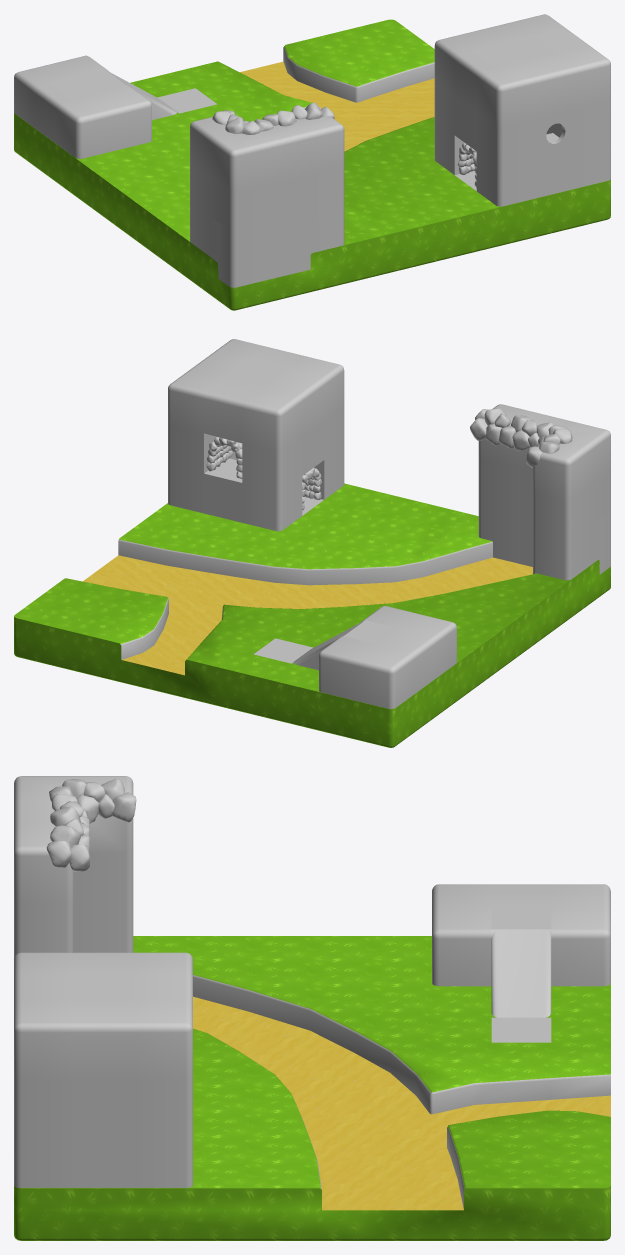
File: Level 3.fbx
The picture shows the model from 3 angles, top to bottom: view 1: azimuth 30°, elevation 25°; view 2: azimuth 150°, elevation 25°; view 3: azimuth 270°, elevation 25°; orthographic projection. The views are drawn at different scales.
Parts seen in each view (by area): view 1: Grass Square Corner.011; view 2: Grass Square Corner.011; view 3: Grass Square Corner.011.
Part boxes in pixels (box(x1,y1,x2,y2)): Grass Square Corner.011: box(14, 14, 610, 310); Grass Square Corner.011: box(14, 339, 610, 747); Grass Square Corner.011: box(14, 776, 610, 1240).
Size of the model in its own units: 2000 by 850 by 2000.
